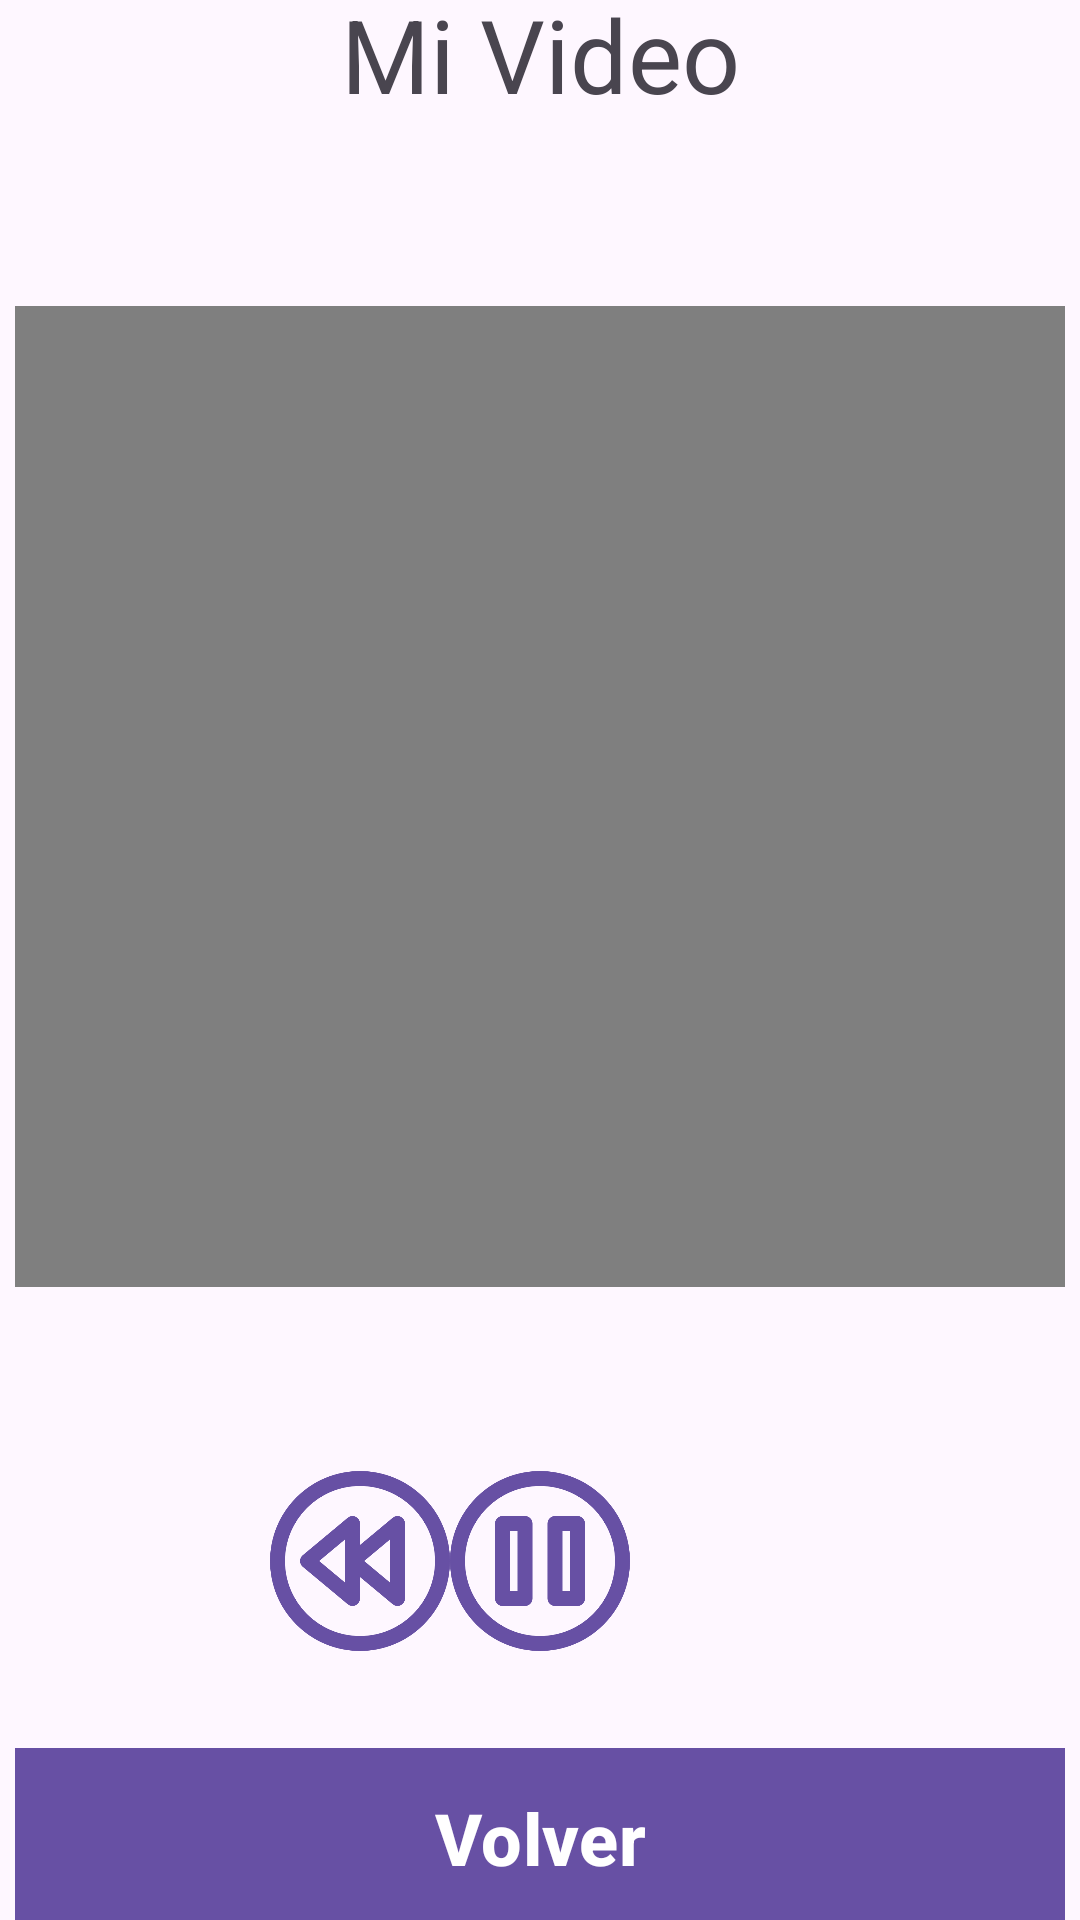

Where icons sit on this 1080w x 1920h app screen, as {"left": x1, "top": y1, "right": x2, "bottom": y2}:
back: {"left": 270, "top": 1471, "right": 450, "bottom": 1651}
pause: {"left": 450, "top": 1471, "right": 630, "bottom": 1651}
